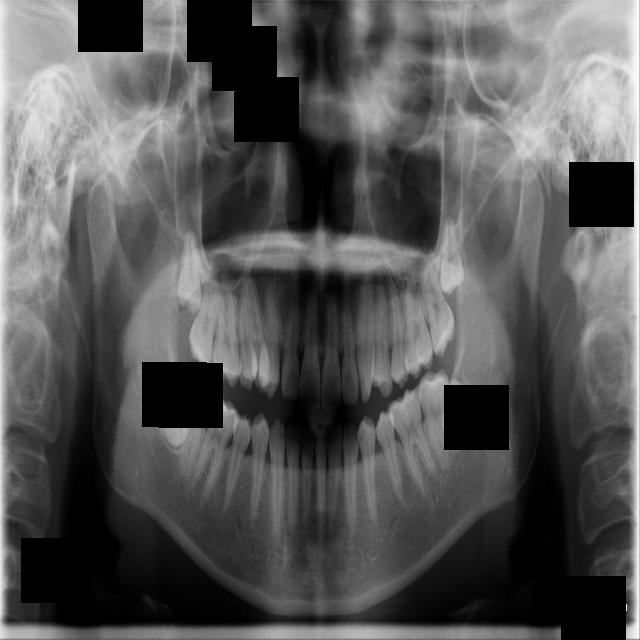3M ESPE Implant: (170, 227, 204, 318)
52: (203, 391, 242, 445), (403, 327, 434, 381)
BioHorizons Implant: (418, 259, 462, 360)
BioLife Implant: (439, 215, 468, 297)
Biomet 3i Implant: (433, 376, 492, 452)
Blue Sky Bio Implant: (418, 368, 451, 471)
Caries: (185, 246, 223, 375)
Implant: (179, 376, 208, 480)
Keystone Dental Implant: (137, 377, 208, 453)
